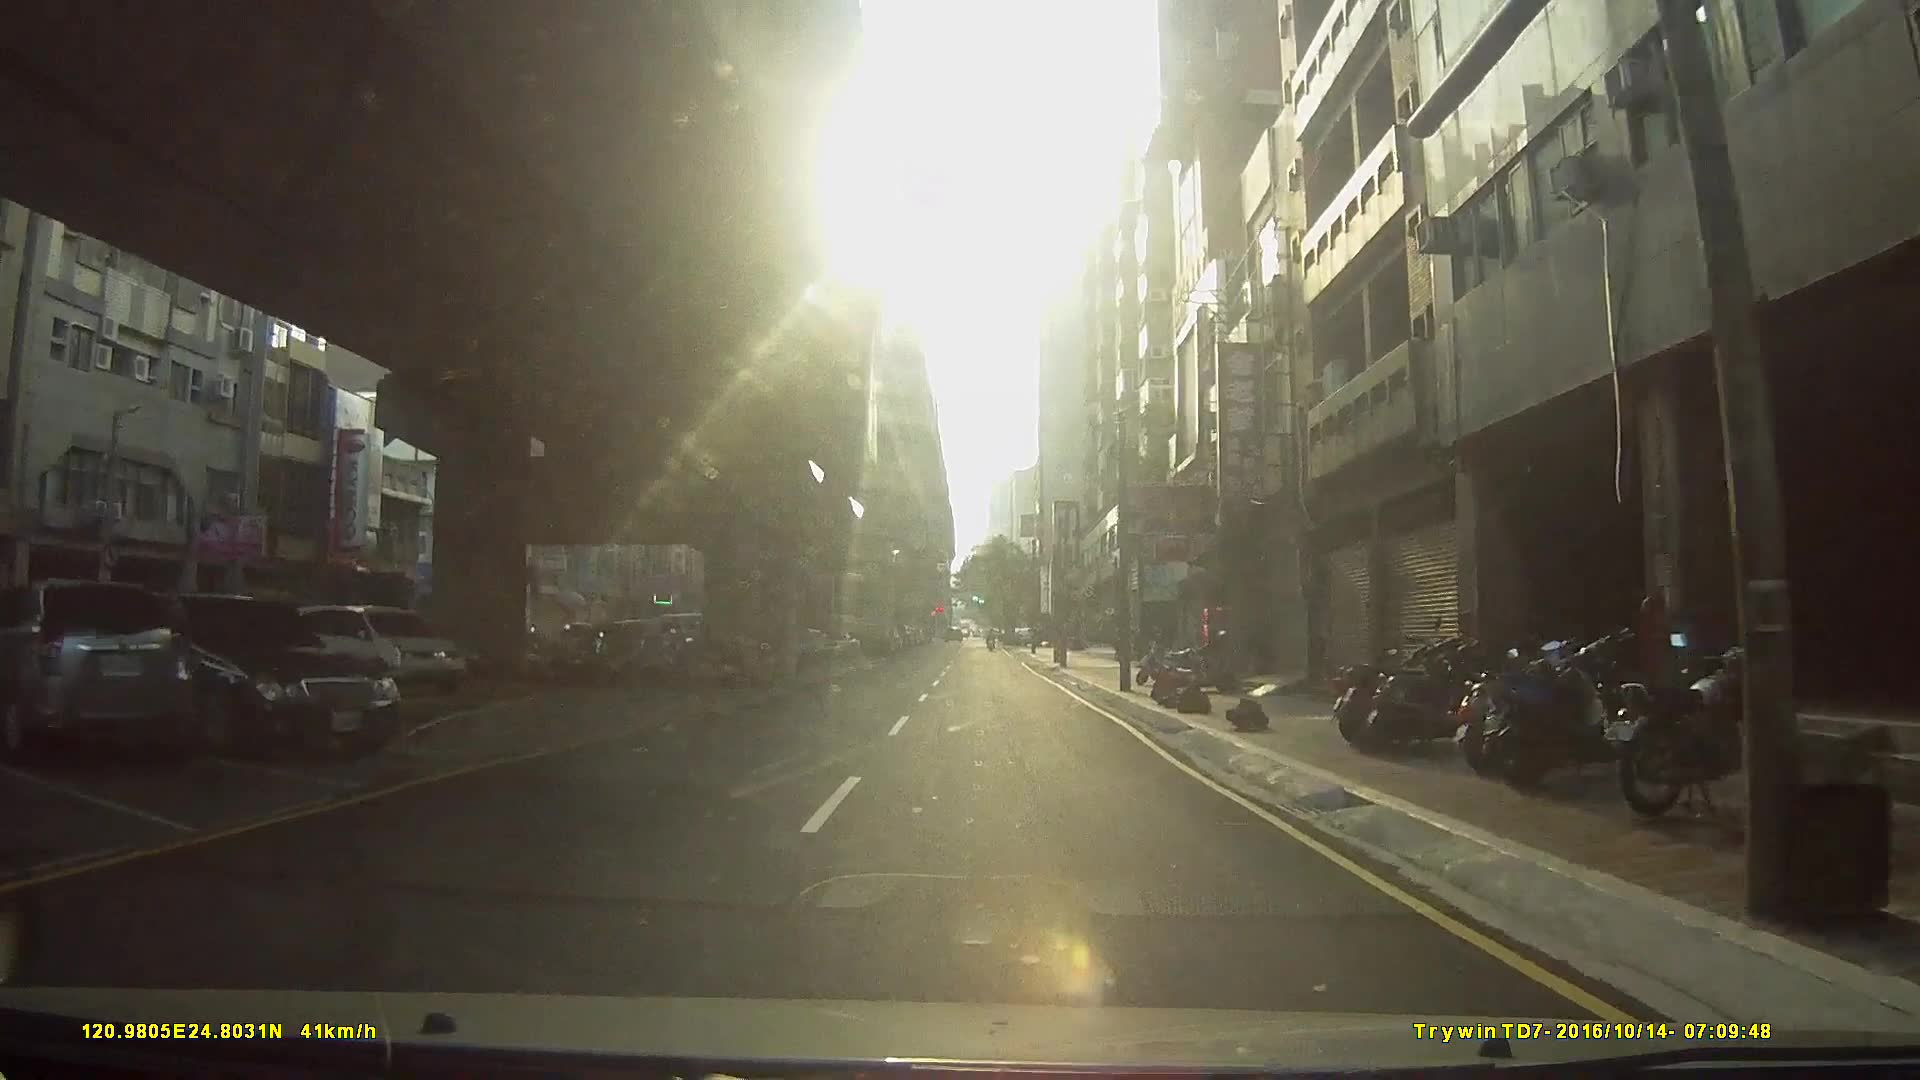vehicle: (90, 589, 398, 753), (7, 578, 186, 767), (289, 603, 463, 691)
